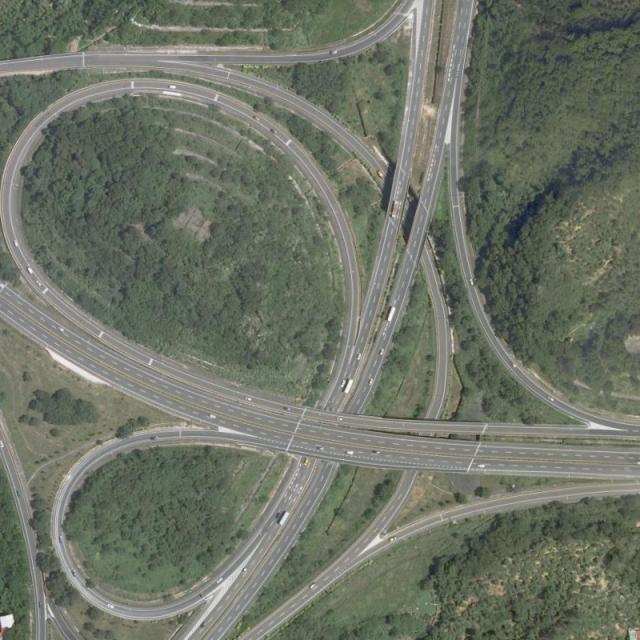vehicle: (278, 511, 291, 526), (390, 199, 399, 219), (345, 378, 354, 394), (388, 306, 396, 322), (376, 169, 385, 179), (215, 577, 224, 585), (310, 582, 318, 590), (208, 414, 217, 421), (106, 602, 115, 609), (27, 266, 34, 274), (242, 566, 249, 574), (70, 571, 78, 578), (303, 458, 310, 466), (389, 535, 397, 542), (58, 535, 64, 544), (342, 379, 348, 388), (253, 115, 260, 122), (245, 396, 253, 402), (478, 463, 486, 469), (380, 348, 386, 356), (57, 326, 64, 332), (270, 128, 277, 134), (16, 489, 21, 497), (369, 378, 374, 386), (36, 281, 42, 287), (1, 439, 5, 448), (337, 416, 343, 422), (510, 362, 516, 368), (548, 396, 554, 402), (13, 239, 18, 246), (285, 406, 292, 411), (330, 50, 338, 54), (358, 353, 362, 361), (346, 450, 354, 454), (318, 446, 324, 451), (1, 282, 5, 289), (169, 86, 176, 90), (38, 601, 42, 608), (202, 622, 207, 627), (470, 280, 474, 286), (374, 451, 381, 454), (152, 437, 158, 440), (638, 461, 640, 465)
